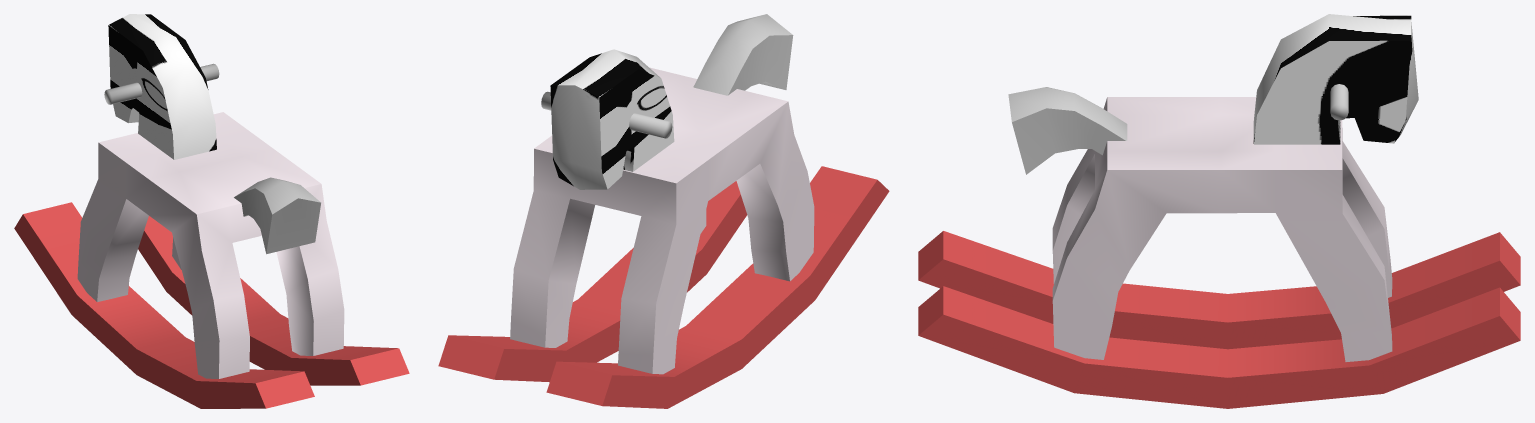
Rendered from Horse.fbx.
3 views of the same model, side by side, from view 1: azimuth 30°, elevation 25°; view 2: azimuth 150°, elevation 25°; view 3: azimuth 270°, elevation 25° (orthographic). The views are drawn at different scales.
Parts seen in each view (by area): view 1: HorseBody, LeftFeet, Head, RightFeet.001, Tail, Handlers; view 2: HorseBody, LeftFeet, Head, RightFeet.001, Tail, Handlers; view 3: HorseBody, RightFeet.001, LeftFeet, Head, Tail, Handlers.
Part boxes in pixels (<box>): HorseBody: <box>77,112,344,378</box>; LeftFeet: <box>14,202,314,408</box>; Head: <box>108,14,216,159</box>; RightFeet.001: <box>138,216,409,385</box>; Tail: <box>234,177,320,254</box>; Handlers: <box>104,63,219,104</box>; HorseBody: <box>510,67,814,374</box>; LeftFeet: <box>546,166,889,408</box>; Head: <box>550,49,674,189</box>; RightFeet.001: <box>438,181,747,382</box>; Tail: <box>693,14,793,95</box>; Handlers: <box>541,91,672,138</box>; HorseBody: <box>1052,97,1392,361</box>; RightFeet.001: <box>918,286,1520,408</box>; LeftFeet: <box>918,231,1520,349</box>; Head: <box>1253,14,1418,144</box>; Tail: <box>1008,87,1127,174</box>; Handlers: <box>1330,84,1348,120</box>.
Bounding box in the file's own units: 674 × 345 × 1046.
